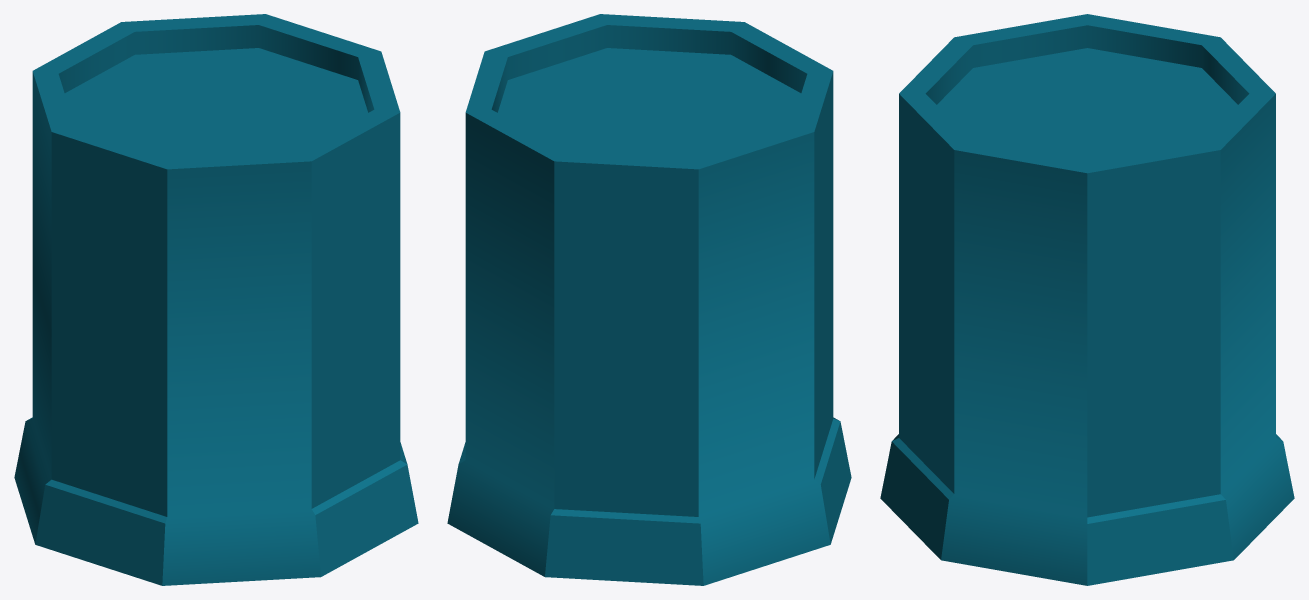
3 renders of one model, left to right at view 1: azimuth 30°, elevation 25°; view 2: azimuth 150°, elevation 25°; view 3: azimuth 270°, elevation 25°, orthographic.
Parts seen in each view (by area): view 1: stage2_part_01_v1; view 2: stage2_part_01_v1; view 3: stage2_part_01_v1.
Boxes of the visible parts, x1,y1,x2,y2 form: stage2_part_01_v1: [14, 14, 418, 585]; stage2_part_01_v1: [447, 14, 851, 585]; stage2_part_01_v1: [880, 14, 1294, 585].
Size of the model in its own units: 328 by 353 by 328.
